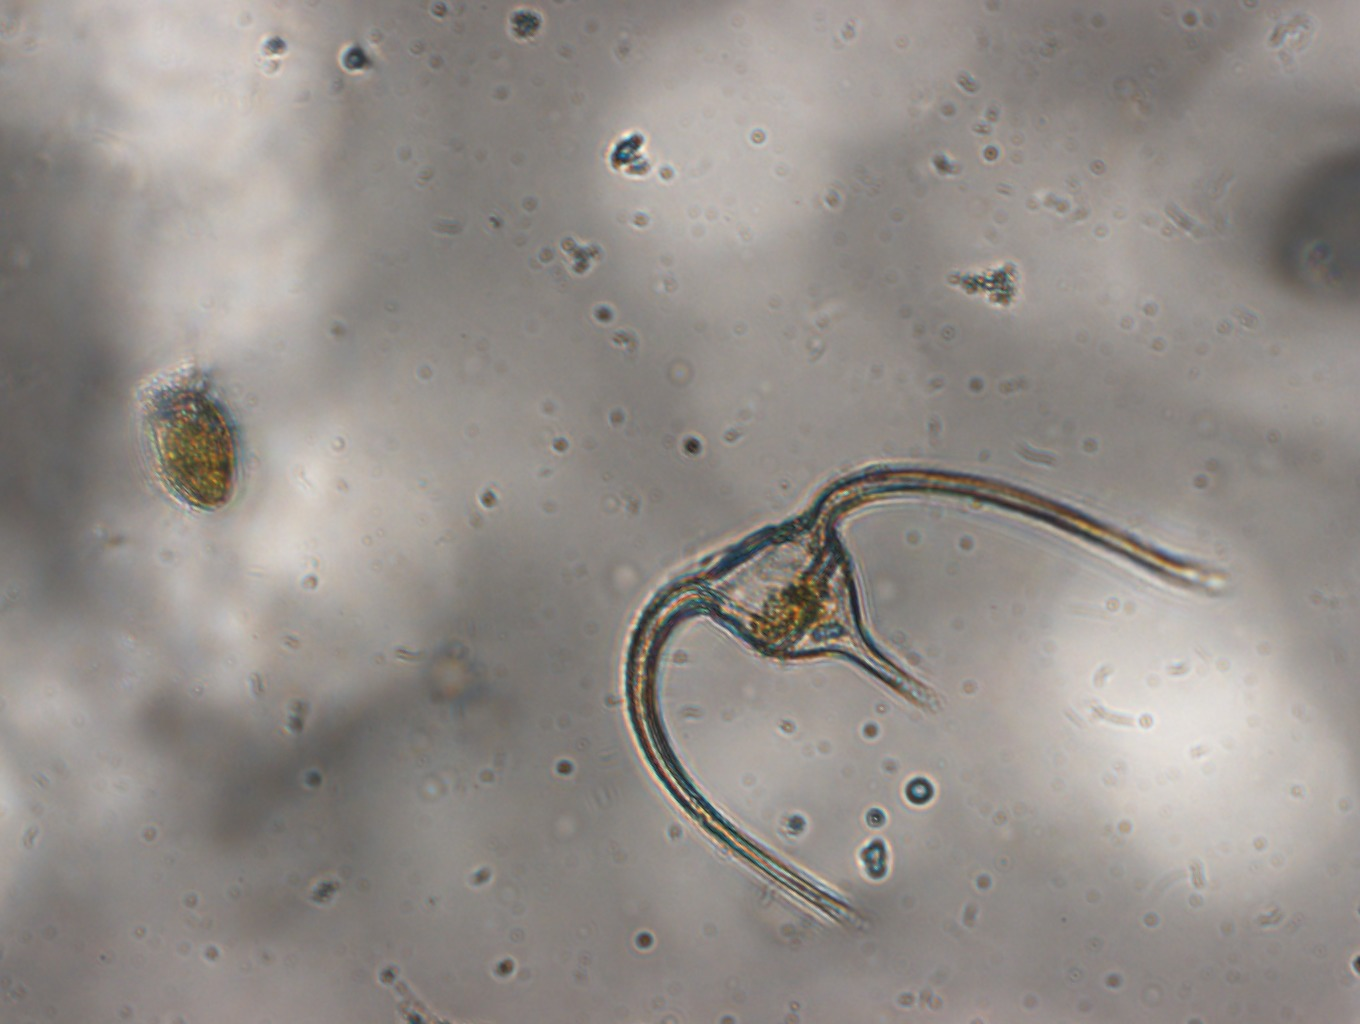ceratium trichoceros: (611, 450, 1228, 939)
